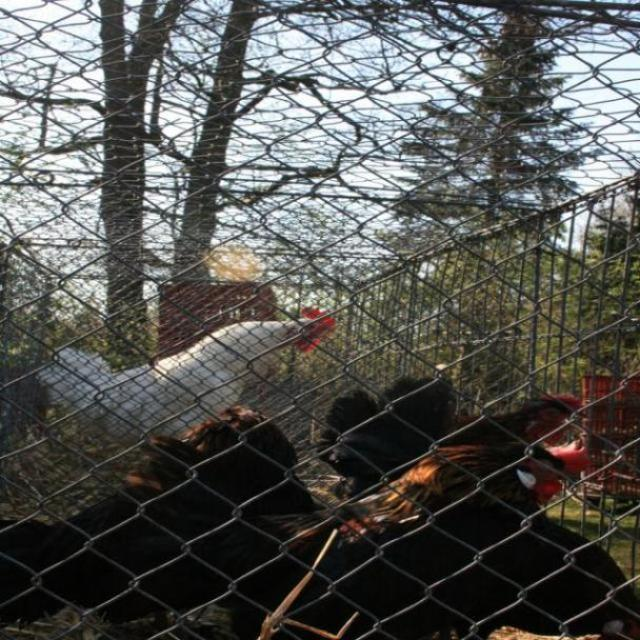Chicken: (224, 440, 639, 640), (40, 303, 336, 448), (317, 372, 592, 503)
